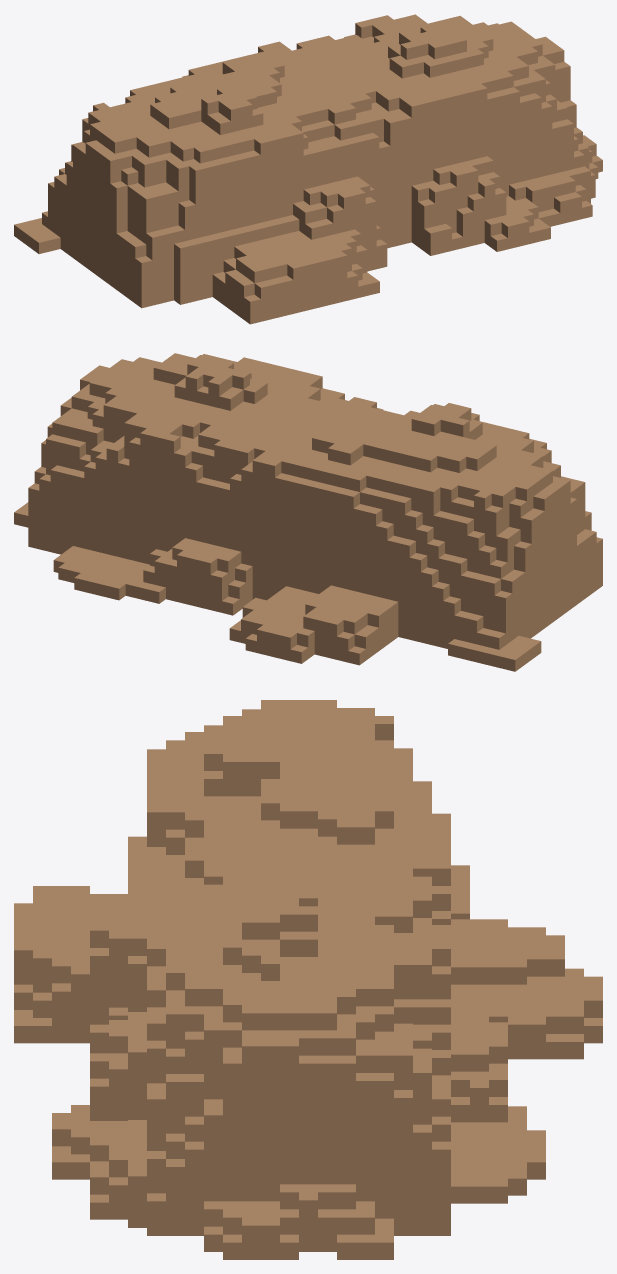
File: rock_04.fbx
The picture shows the model from 3 angles, top to bottom: view 1: azimuth 30°, elevation 25°; view 2: azimuth 150°, elevation 25°; view 3: azimuth 270°, elevation 25°; orthographic projection. The views are drawn at different scales.
Parts seen in each view (by area): view 1: rock_04_0; view 2: rock_04_0; view 3: rock_04_0.
Boxes of the visible parts, left/top/right/bottom form: rock_04_0: left=14, top=14, right=602, bottom=324; rock_04_0: left=14, top=353, right=602, bottom=671; rock_04_0: left=14, top=700, right=602, bottom=1259.
Size of the model in its own units: 4700 by 3100 by 1400.
